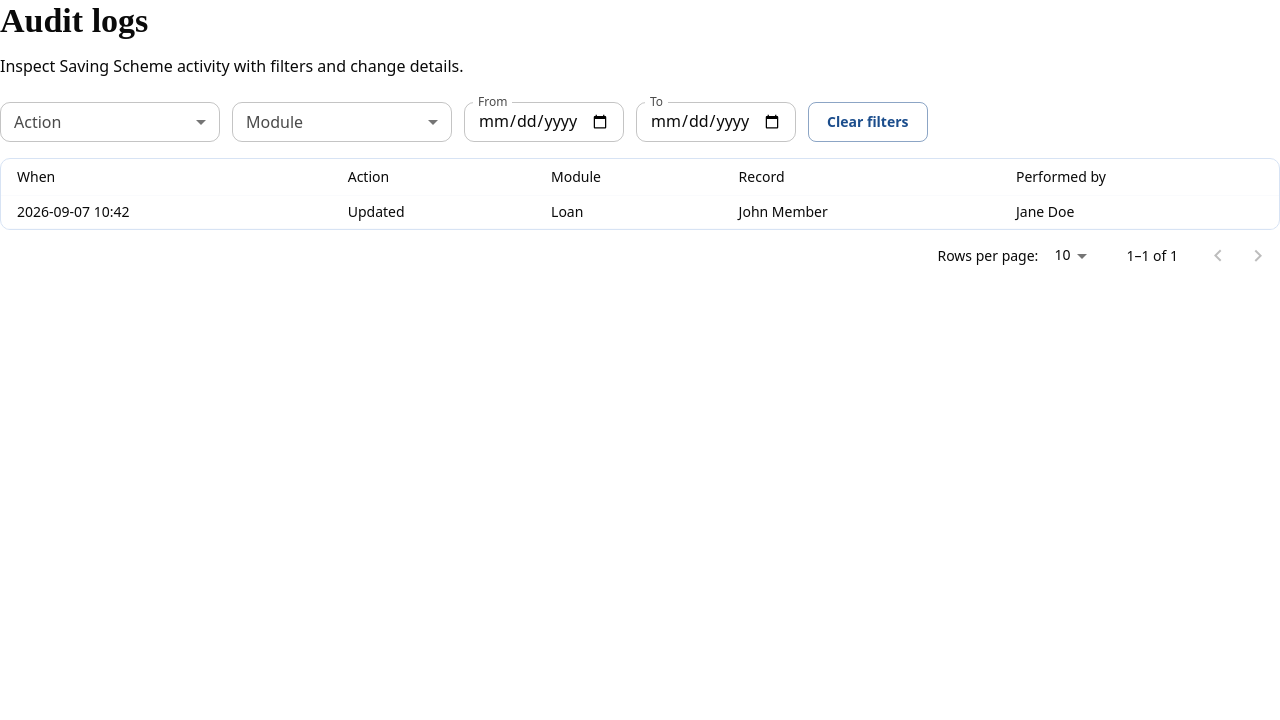
Test: AuditLogsPage presentation › does not crash when previous/new JSON is invalid
Click the text "Updated": (433, 212) x1=332 y1=195 x2=535 y2=228
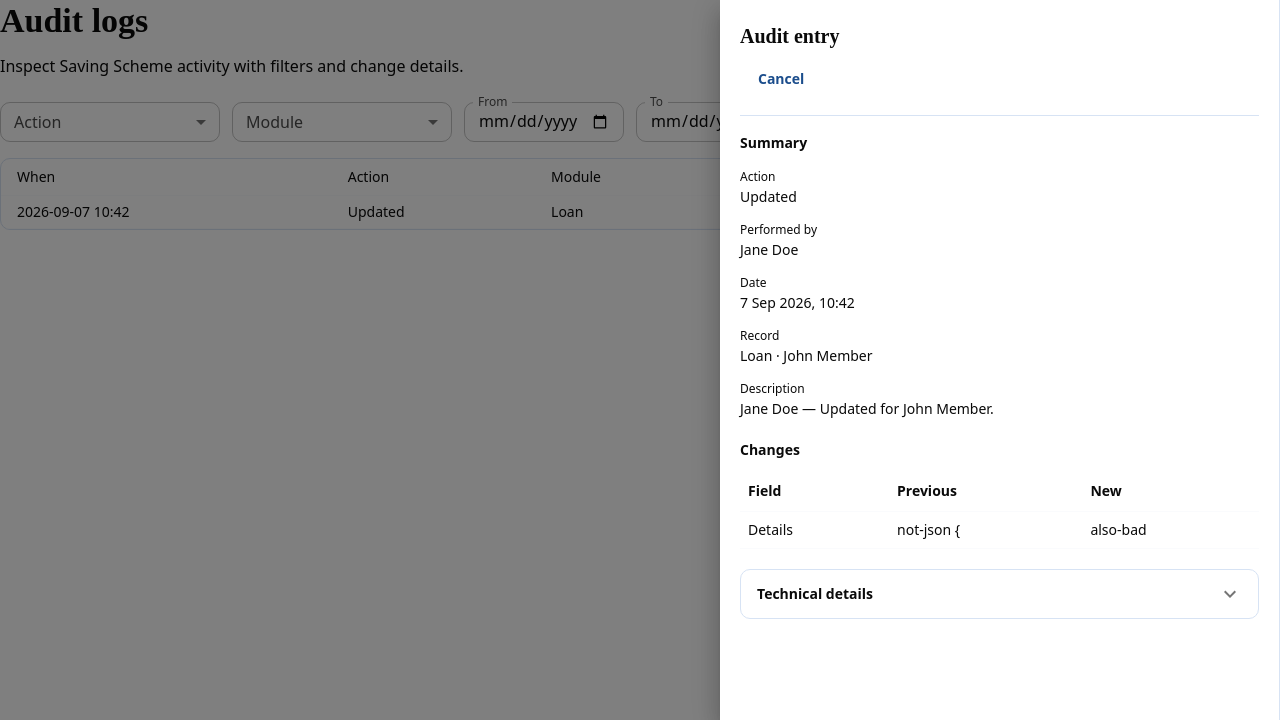
expect the text "Details" is shown: met, box x1=740 y1=511 x2=889 y2=548
expect the text "not-json {" is shown: met, box x1=889 y1=511 x2=1082 y2=548
